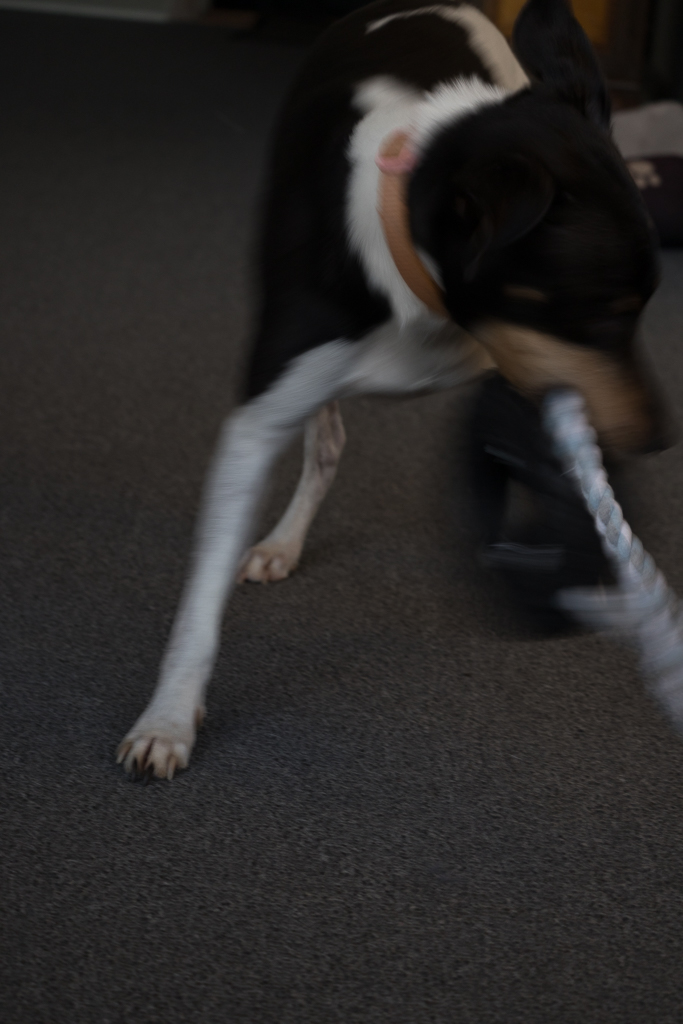Dog: (102, 0, 683, 795)
